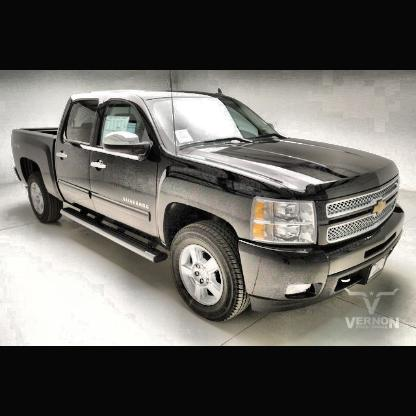Chevrolet Silverado 1500 Hybrid Crew Cab 2012: (13, 90, 404, 321)
